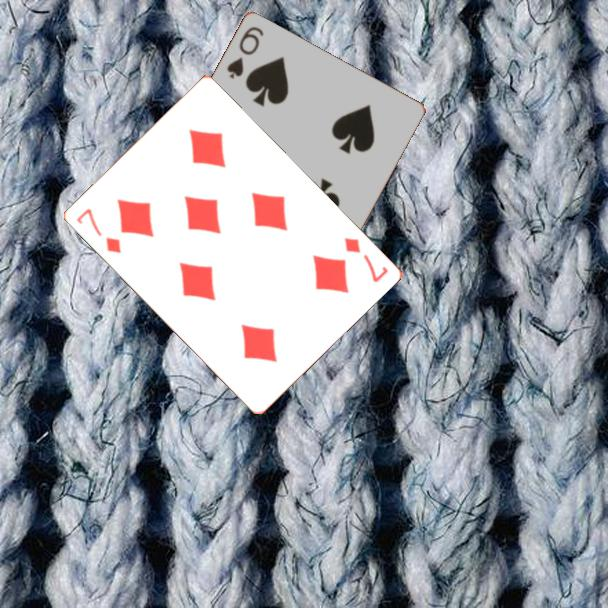d07: (72, 205, 124, 256), (340, 234, 391, 285)
s06: (223, 23, 267, 82)
